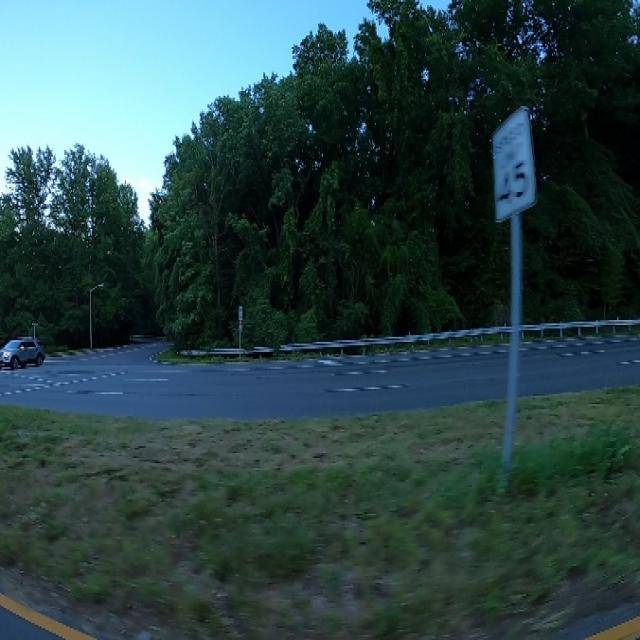cars: (0, 331, 44, 370)
